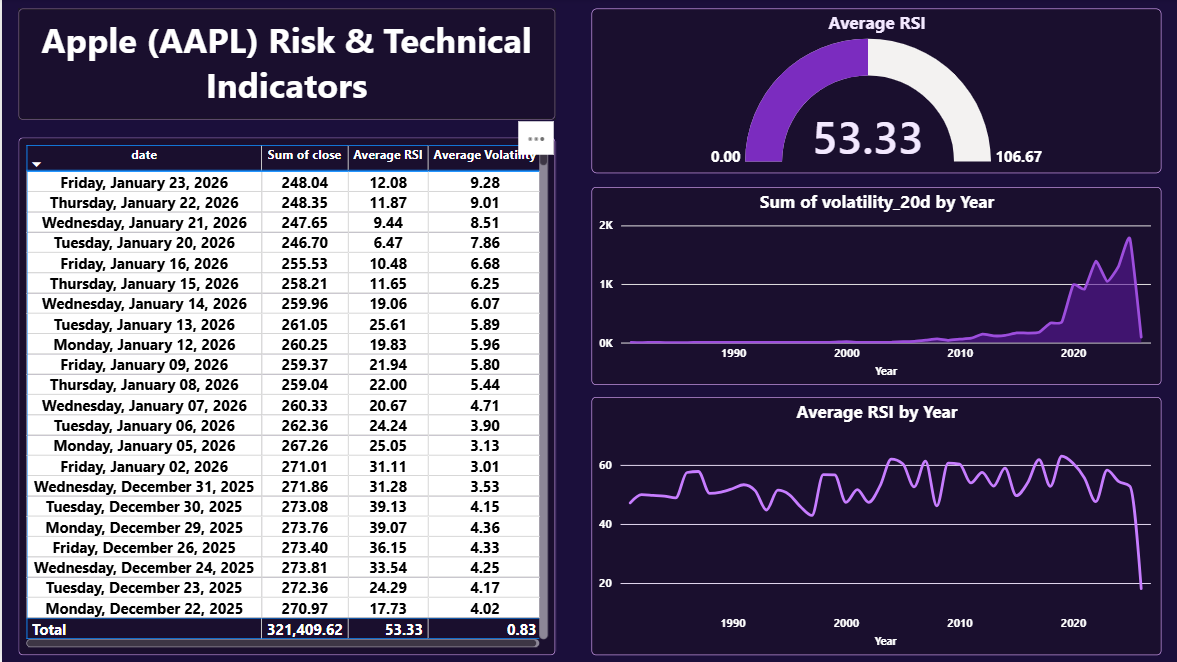

This screenshot's page, from the dashboard's own definition file:
{"tool":"powerbi","page":{"name":"RISK & TECHINICAL INDICATORS","canvas":[1280,720],"ordinal":1},"visuals":[{"type":"lineChart","fields":{"Category":["aapl_master_enriched.date.Variation.Date Hierarchy.Year","aapl_master_enriched.date.Variation.Date Hierarchy.Quarter","aapl_master_enriched.date.Variation.Date Hierarchy.Month","aapl_master_enriched.date.Variation.Date Hierarchy.Day"],"Y":["Sum(aapl_master_enriched.volatility_20d)"]},"box":[639.2,204.9,618.1,214.7],"z":0},{"type":"lineChart","fields":{"Y":["aapl_master_enriched.Average RSI"],"Category":["aapl_master_enriched( FACT TABLE.date.Variation.Date Hierarchy.Year","aapl_master_enriched( FACT TABLE.date.Variation.Date Hierarchy.Quarter","aapl_master_enriched( FACT TABLE.date.Variation.Date Hierarchy.Month","aapl_master_enriched( FACT TABLE.date.Variation.Date Hierarchy.Day"]},"box":[639.2,432.7,618.1,279.8],"z":1000},{"type":"gauge","fields":{"Y":["aapl_master_enriched.Average RSI"]},"box":[639.2,11.4,618.1,178.9],"z":2000},{"type":"tableEx","fields":{"Values":["aapl_master_enriched.date","Sum(aapl_master_enriched.close)","aapl_master_enriched.Average RSI","aapl_master_enriched.Average Volatility"]},"box":[17.9,151.3,582.3,561.2],"z":3000},{"type":"textbox","box":[17.9,11.4,582.3,120.4],"z":4000}]}

Visuals, with their boxes in screenshot pixels (x1, y1, x2, y2), scaled from the page's 1280x720 canvas onto the 1177x662 screenshot:
lineChart - aapl_master_enriched.date.Variation.Date Hierarchy.Year x aapl_master_enriched.date.Variation.Date Hierarchy.Quarter: [588,188,1156,386]
lineChart - aapl_master_enriched.Average RSI x aapl_master_enriched( FACT TABLE.date.Variation.Date Hierarchy.Year: [588,398,1156,655]
gauge - aapl_master_enriched.Average RSI: [588,10,1156,175]
tableEx - aapl_master_enriched.date x Sum(aapl_master_enriched.close): [16,139,552,655]
textbox: [16,10,552,121]
